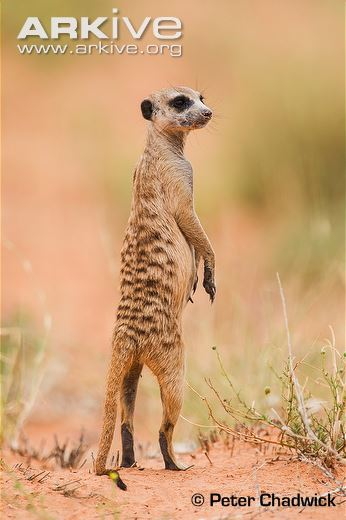meerkat: (81, 71, 239, 481)
